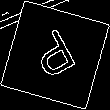P_SE: (26, 24, 84, 86)
